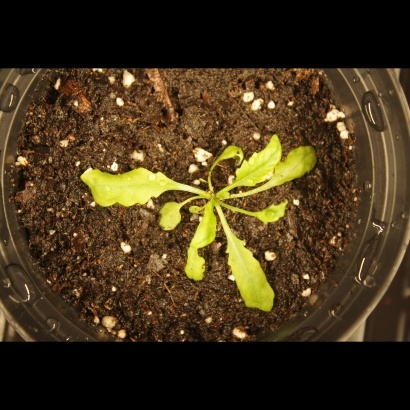leaf: (223, 227, 280, 318), (78, 158, 173, 211), (229, 131, 283, 193), (181, 204, 219, 285), (269, 138, 327, 189), (211, 136, 250, 171), (246, 200, 295, 227), (153, 200, 186, 240)
